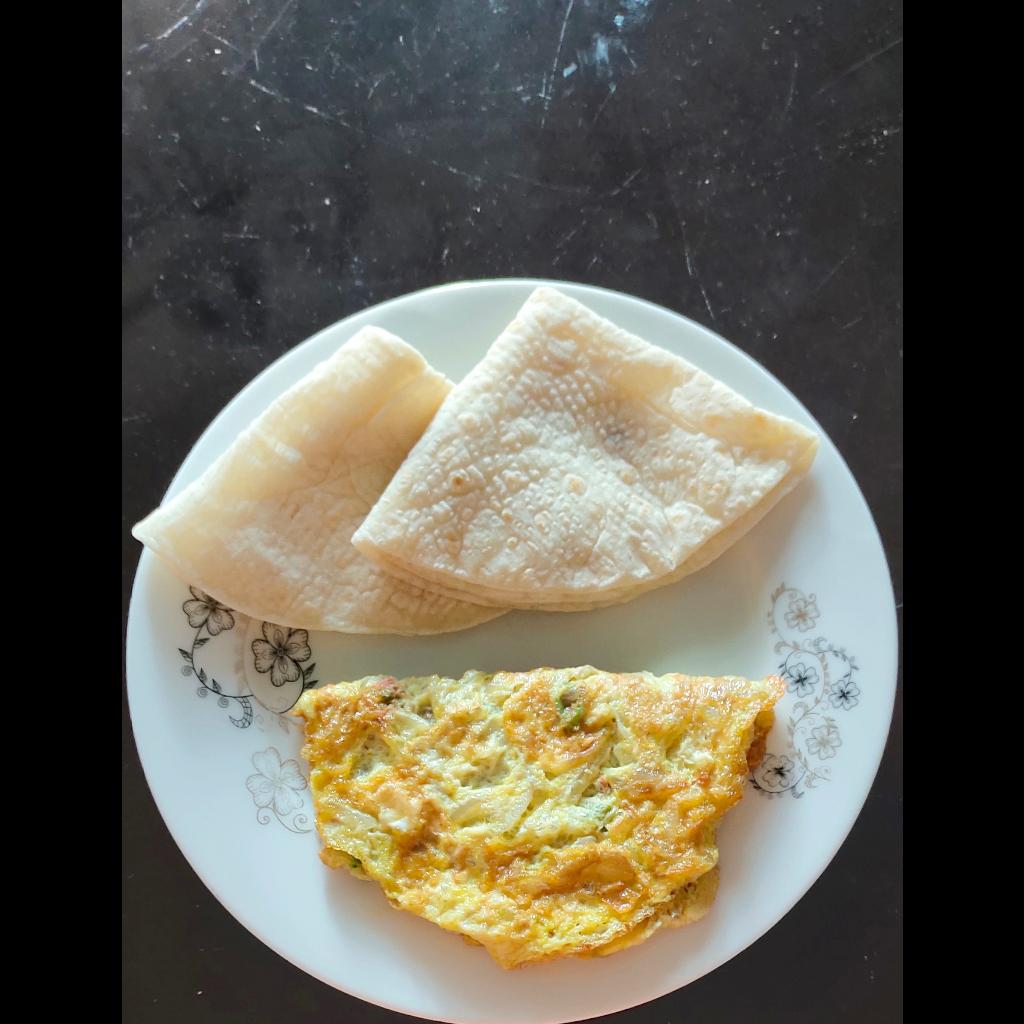egg-poached: (289, 669, 790, 975)
ruti: (127, 281, 823, 636)
